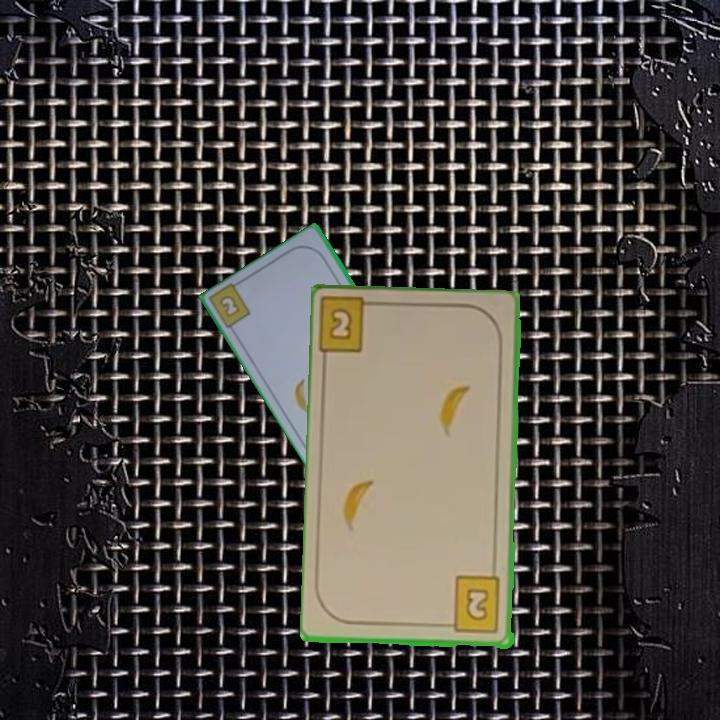2b: (318, 297, 385, 358), (441, 574, 504, 636), (214, 292, 244, 320)
